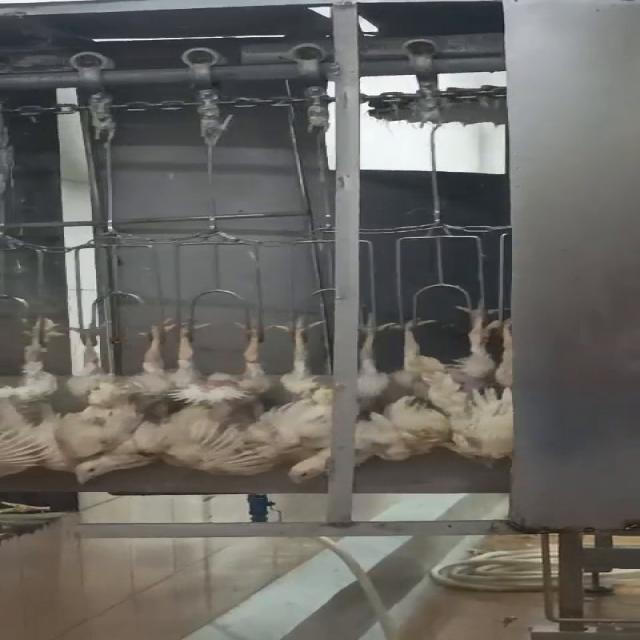chicken: (282, 298, 394, 492), (64, 310, 184, 488), (171, 312, 272, 480), (382, 302, 486, 464), (0, 310, 69, 487), (478, 306, 526, 466)
